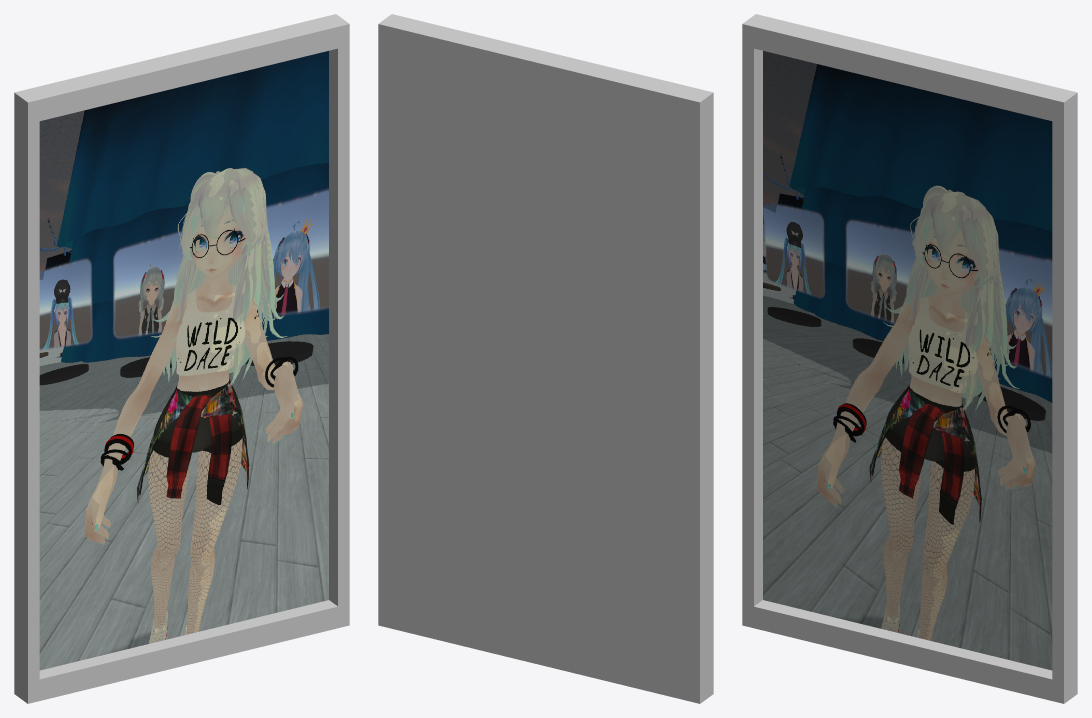
Rendered from photo01.fbx.
The picture shows the model from 3 angles, left to right: view 1: azimuth 30°, elevation 25°; view 2: azimuth 150°, elevation 25°; view 3: azimuth 330°, elevation 25°; orthographic projection.
Visible parts, largest first — view 1: Plane; view 2: Plane; view 3: Plane.
Boxes of the visible parts, x1,y1,x2,y2 form: Plane: (14, 14, 349, 703); Plane: (378, 14, 713, 703); Plane: (742, 14, 1077, 703).
Size of the model in its own units: 42.84 by 76.5 by 3.15.
Materials: 2 (1 with a texture image).
